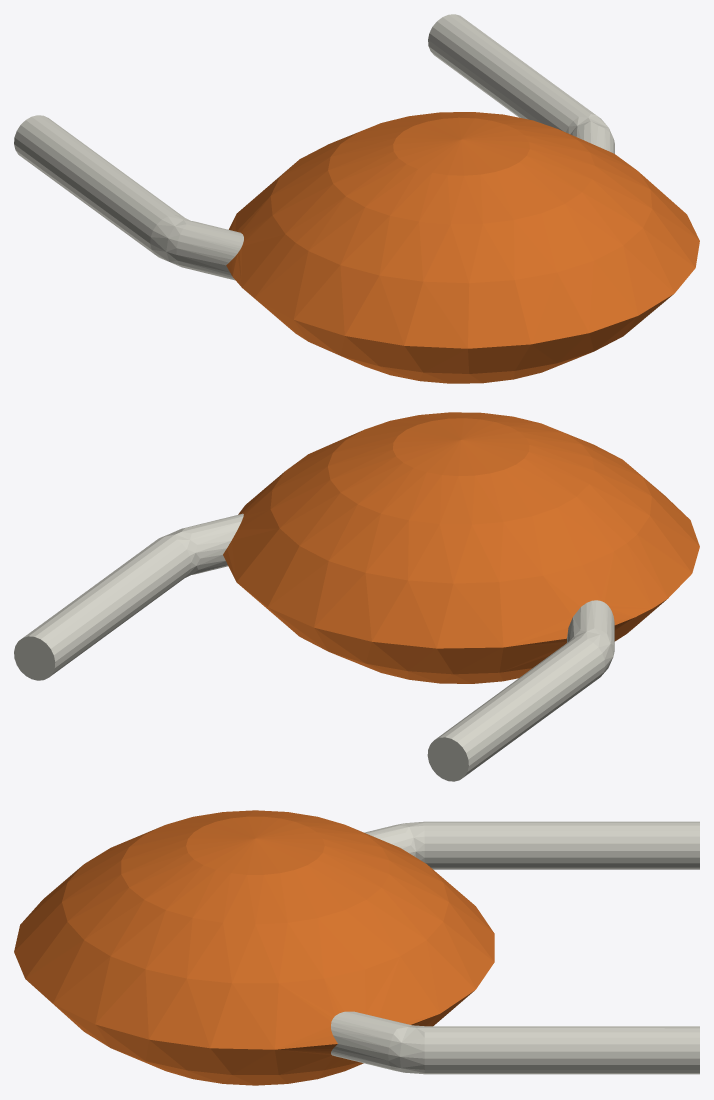
File: cap-ceramic.glb
3 renders of one model, top to bottom at view 1: azimuth 30°, elevation 25°; view 2: azimuth 150°, elevation 25°; view 3: azimuth 270°, elevation 25°, orthographic.
Parts seen in each view (by area): view 1: part1, part0; view 2: part1, part0; view 3: part1, part0.
Boxes of the visible parts, x1,y1,x2,y2 form: part1: (226,112,699,383); part0: (14,14,614,280); part1: (223,412,699,683); part0: (14,513,614,781); part1: (14,810,494,1085); part0: (331,821,699,1074).
Size of the model in its own units: 0.0055 by 0.0025 by 0.0071.
